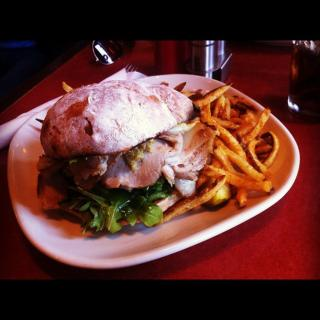French fries: (151, 174, 228, 228), (202, 110, 248, 161), (204, 161, 275, 191), (239, 108, 270, 144), (214, 146, 246, 177), (246, 139, 270, 180), (192, 82, 233, 105), (233, 109, 260, 138), (262, 132, 280, 166), (201, 111, 236, 127), (236, 186, 249, 210), (210, 95, 224, 117), (220, 98, 231, 120), (171, 80, 184, 93), (190, 89, 203, 100), (62, 81, 72, 93), (162, 81, 167, 86)
